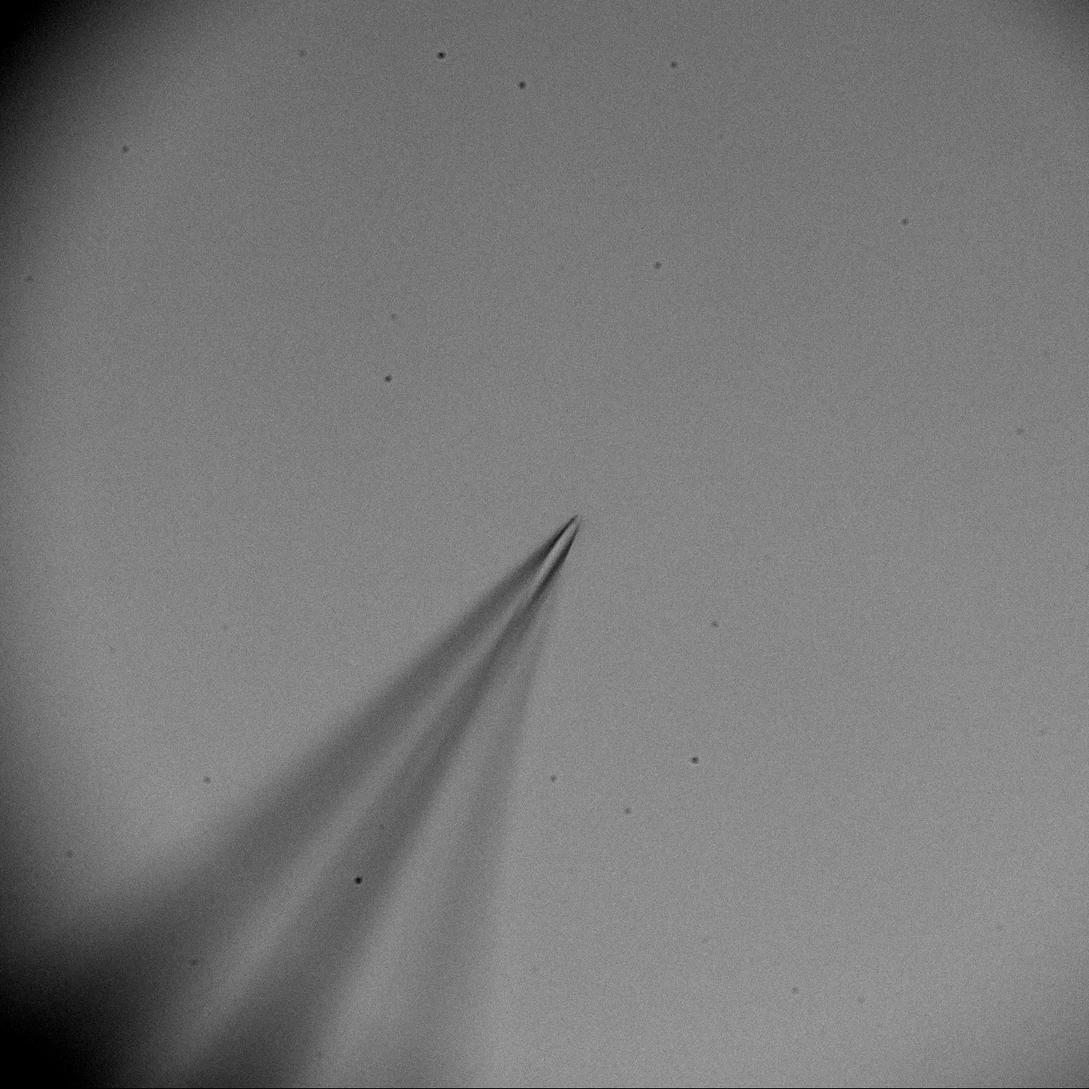tip: (496, 491, 594, 604)
